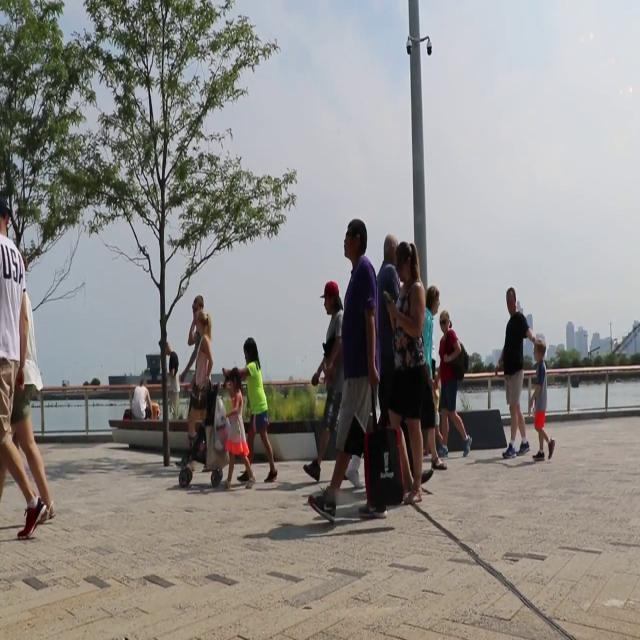normal: (310, 218, 390, 528), (436, 308, 474, 465), (240, 334, 278, 487), (499, 285, 531, 463), (526, 337, 560, 467)
